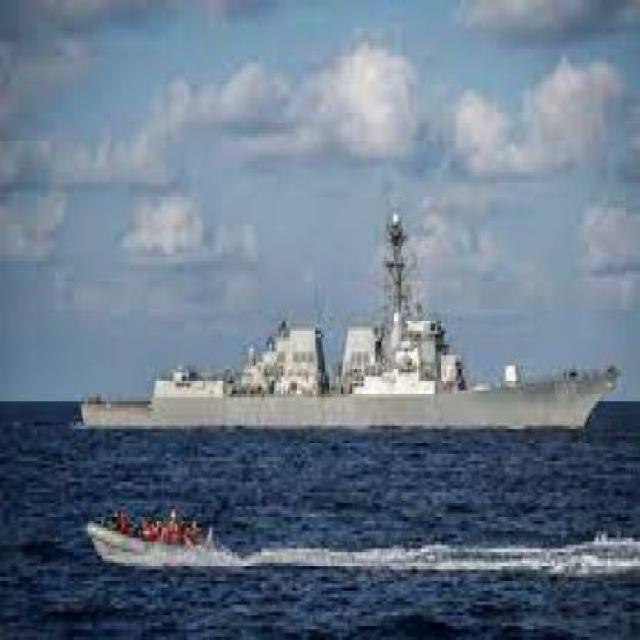warship2: (61, 190, 632, 455)
